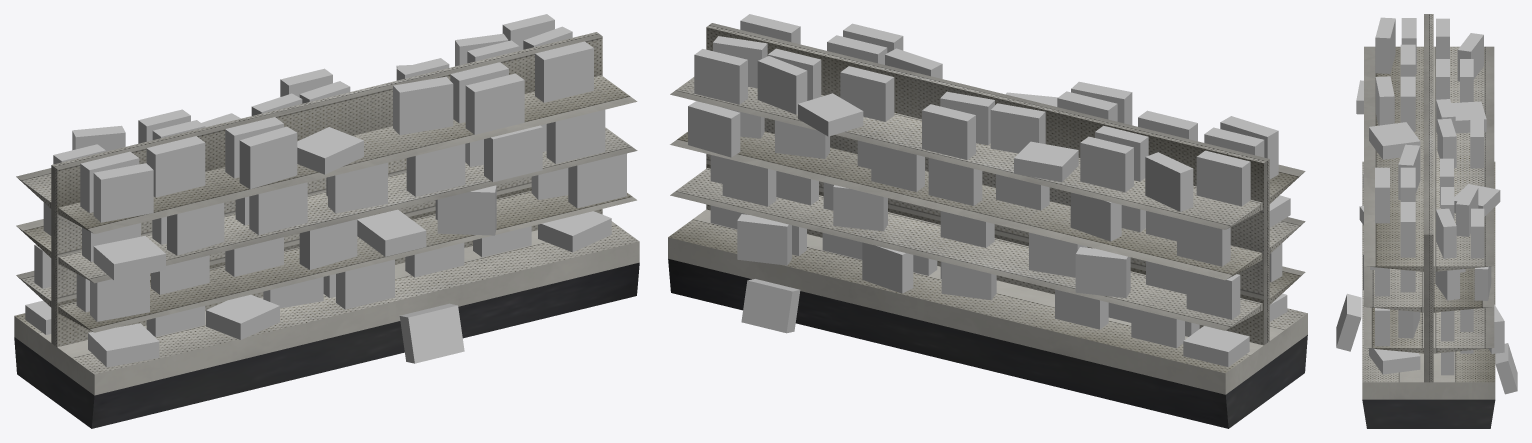
Rendered from Messy_Food_Shelf_Single.fbx.
3 views of the same model, side by side, from view 1: azimuth 30°, elevation 25°; view 2: azimuth 150°, elevation 25°; view 3: azimuth 270°, elevation 25° (orthographic). The views are drawn at different scales.
Visible parts, largest first — view 1: Messy_Food_Shelf_Single; view 2: Messy_Food_Shelf_Single; view 3: Messy_Food_Shelf_Single.
Part boxes in pixels (box(x1,y1,x2,y2)): Messy_Food_Shelf_Single: box(14, 14, 639, 428); Messy_Food_Shelf_Single: box(668, 14, 1307, 428); Messy_Food_Shelf_Single: box(1336, 14, 1517, 428).
Bounding box in the file's own units: 466 × 195 × 162.
